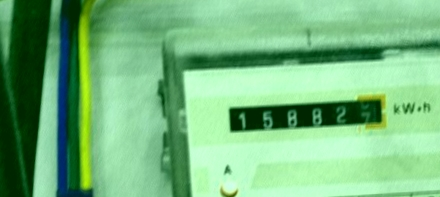1: (235, 109, 248, 128)
2: (334, 103, 347, 123)
5: (260, 108, 273, 128)
7: (359, 109, 371, 124)
8: (285, 106, 298, 128), (310, 105, 323, 127)
screen: (220, 88, 396, 140)
